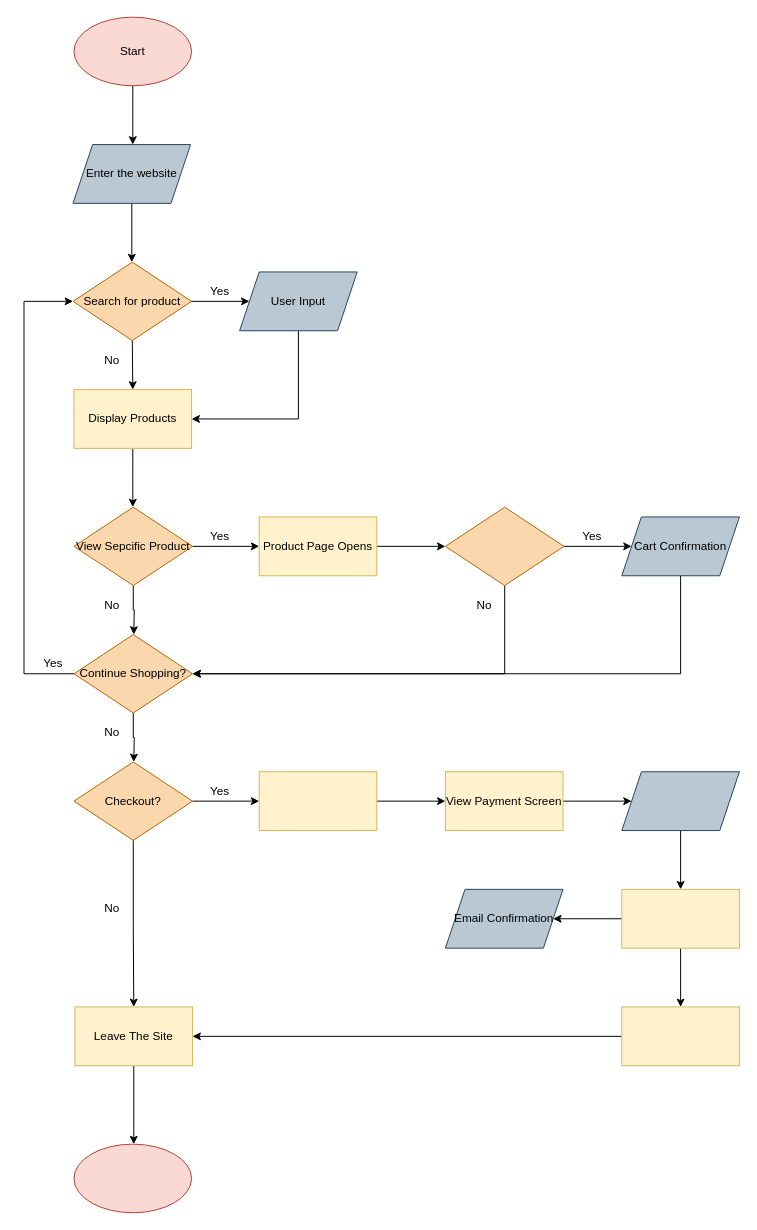
Image size: 757x1230. Some labels were removed from this diagram. Here are the shapes that lost their labels. From the top down, the centre of each, then its label:
At point (504, 546): "Add To Cart?".
At point (317, 801): "View Cart Screen".
At point (680, 801): "Payment Info".
At point (680, 918): "Payment Complete".
At point (680, 1036): "Order Confirmation Screen".
At point (132, 1178): "End".
